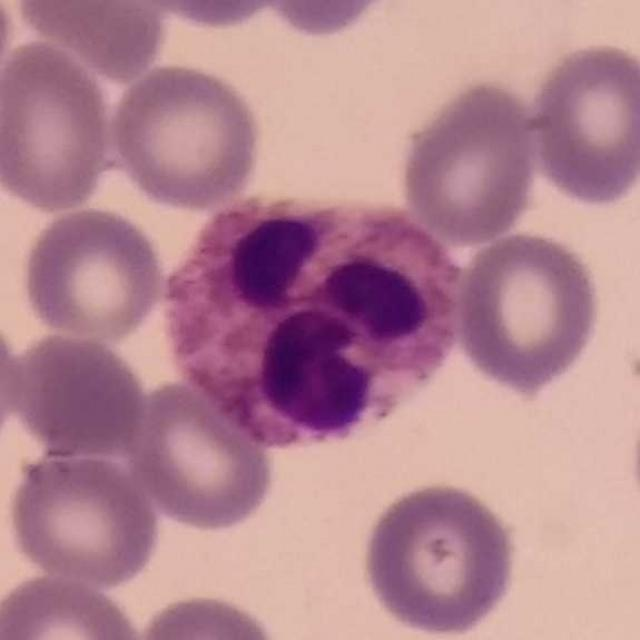Neutrophil: (175, 185, 476, 457)
RBC: (357, 476, 523, 639), (452, 227, 605, 396), (122, 375, 278, 534), (105, 59, 267, 211), (395, 77, 541, 245), (2, 445, 163, 590), (17, 204, 167, 344), (0, 36, 117, 214), (523, 37, 640, 209), (12, 328, 150, 458), (9, 0, 175, 79), (0, 571, 148, 640), (130, 589, 286, 640), (232, 0, 404, 40), (119, 0, 304, 31), (0, 313, 28, 463), (0, 0, 17, 109)
